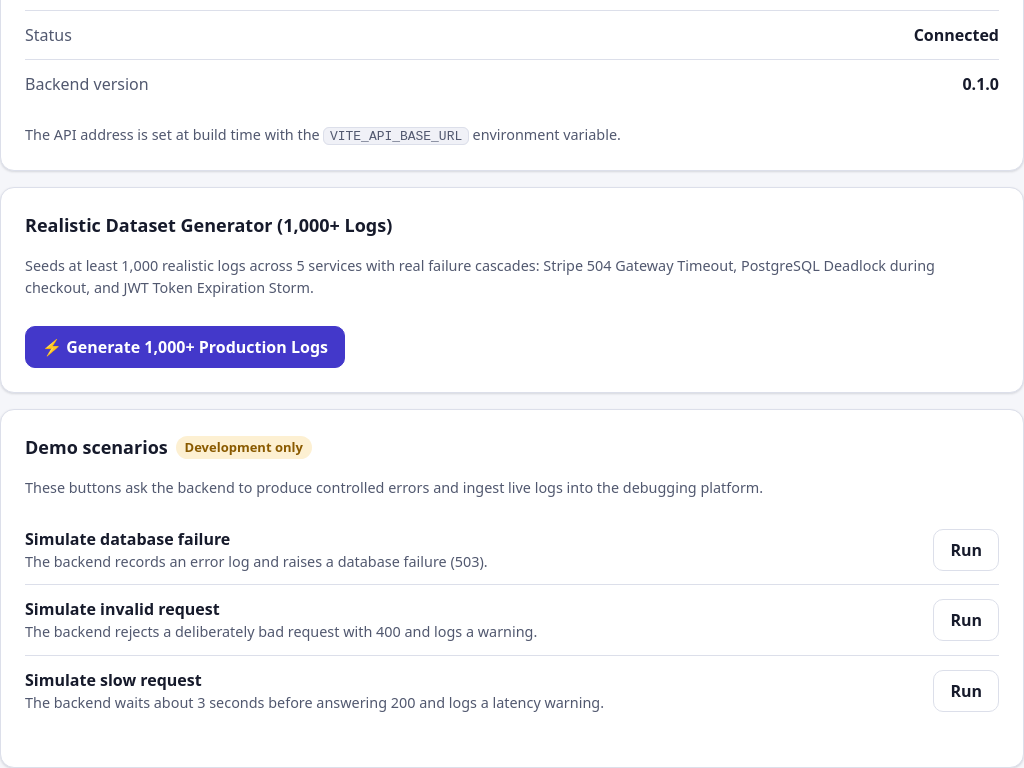
Test: Settings page › sends the delay for the slow-request scenario
(page scrolled)
Click the button with aria-label "Run: Simulate slow request" at (966, 691), box [933,670,999,712]
(page scrolled)
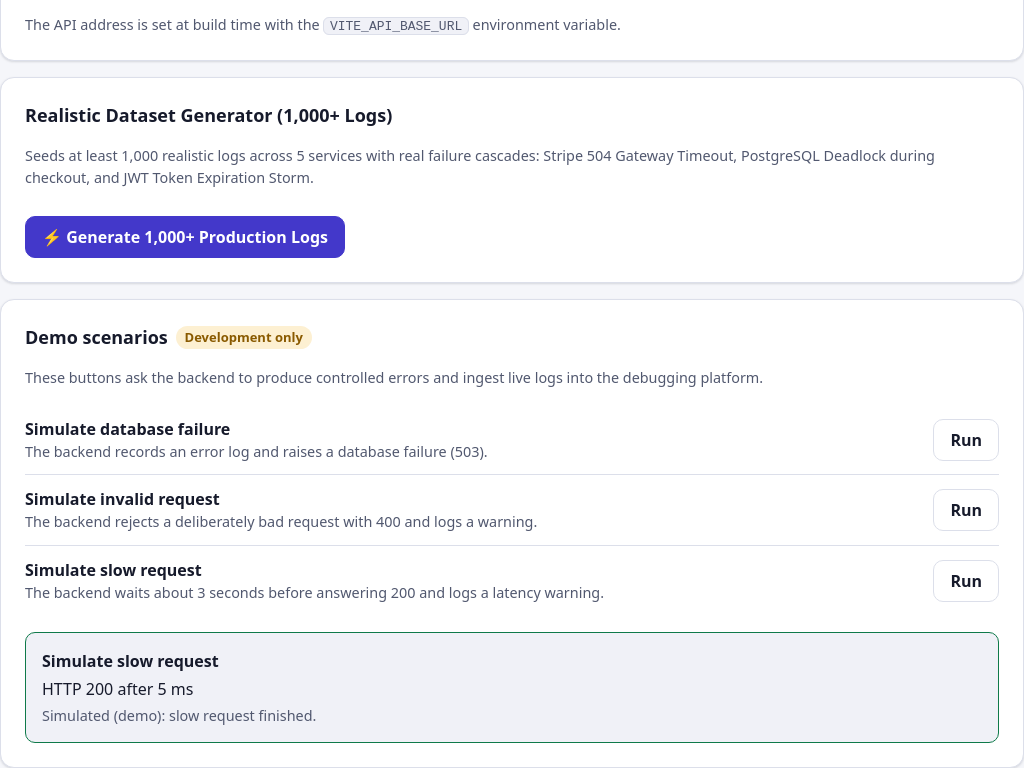
Expected: the text "HTTP 200 after 5 ms" is shown, [42,678,193,700]
